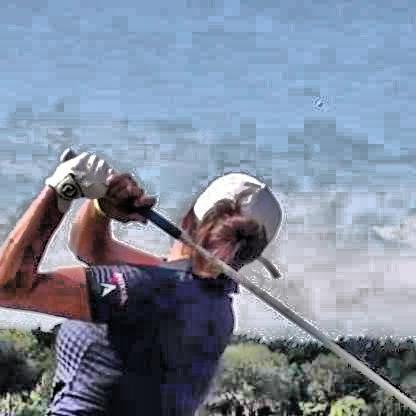golfball: (314, 98, 319, 105)
